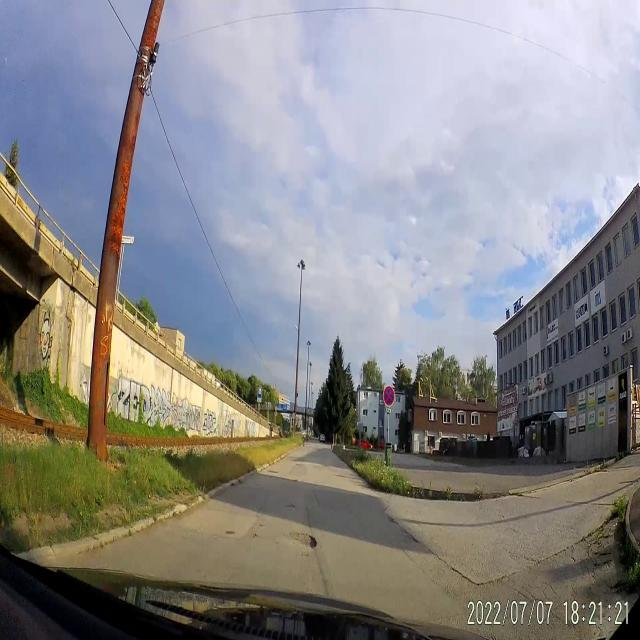Pothole: (286, 528, 318, 550), (266, 468, 280, 476), (284, 502, 296, 509)
